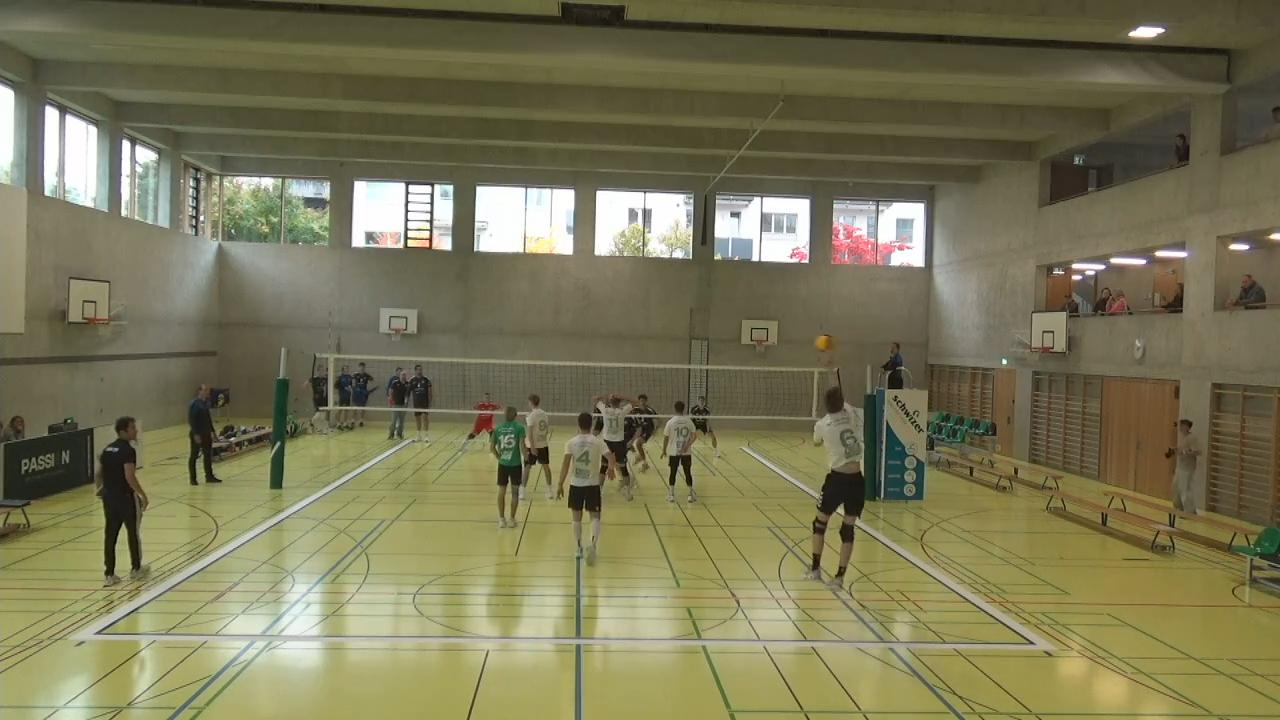Player: (561, 422, 608, 564), (588, 391, 641, 507), (491, 411, 527, 532), (663, 403, 698, 507), (517, 394, 548, 500), (626, 394, 663, 473), (462, 392, 500, 453), (409, 362, 435, 448), (691, 393, 720, 456)
Serve: (804, 364, 872, 584)
ball: (812, 332, 834, 354)
